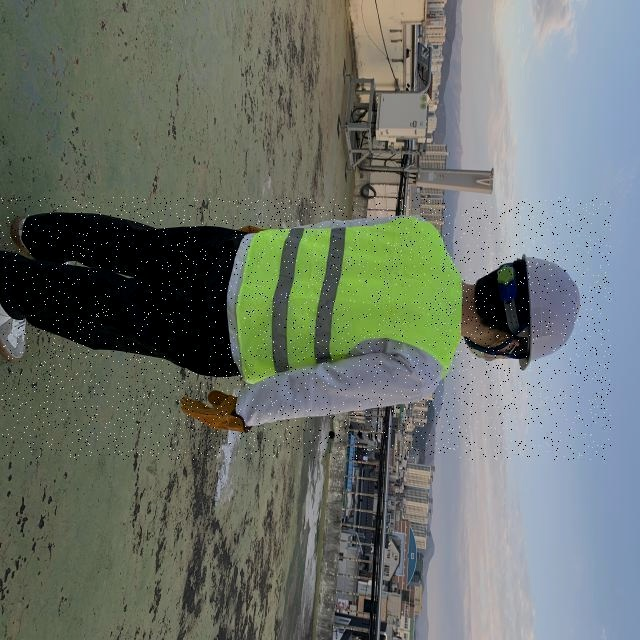boots: (604, 259, 640, 363)
gloves: (379, 368, 492, 439)
helmet: (52, 252, 126, 373)
vest: (178, 216, 406, 382)
